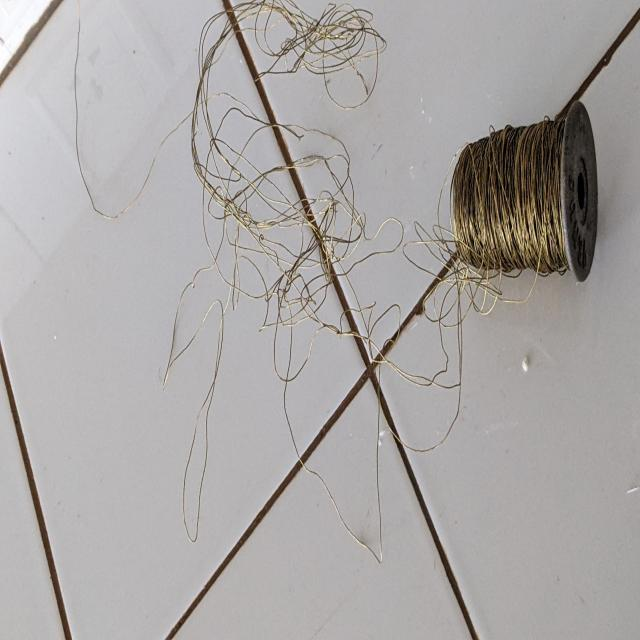Wire Coil: (438, 92, 600, 299)
